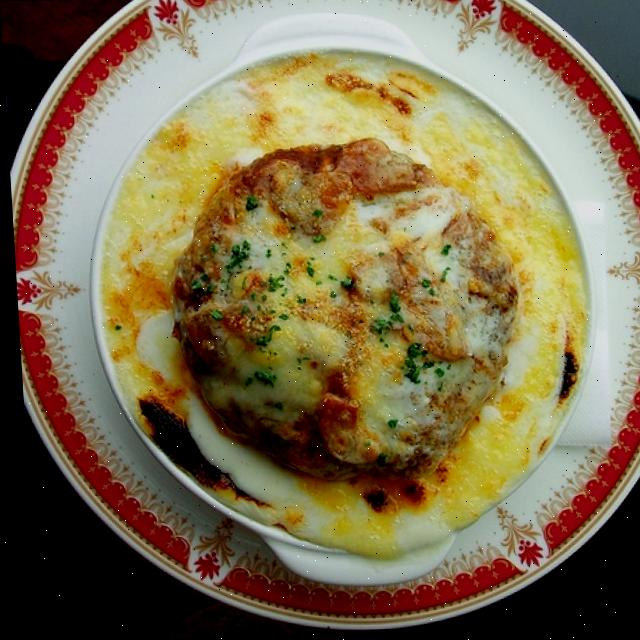米饭主食: (4, 0, 640, 638)
